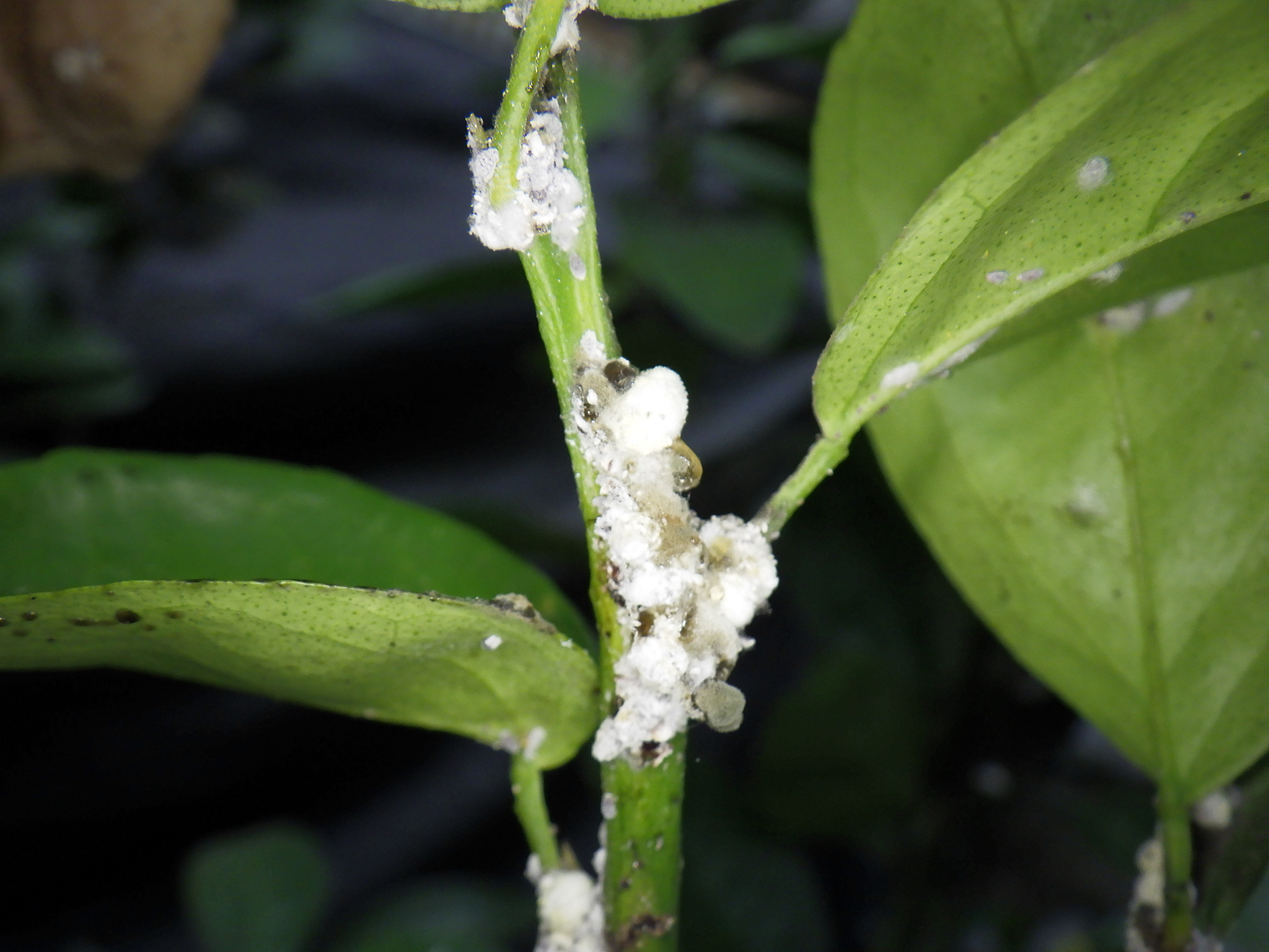Scale_Insect: (569, 330, 778, 765), (468, 97, 568, 281), (537, 869, 605, 951), (547, 0, 592, 58)
